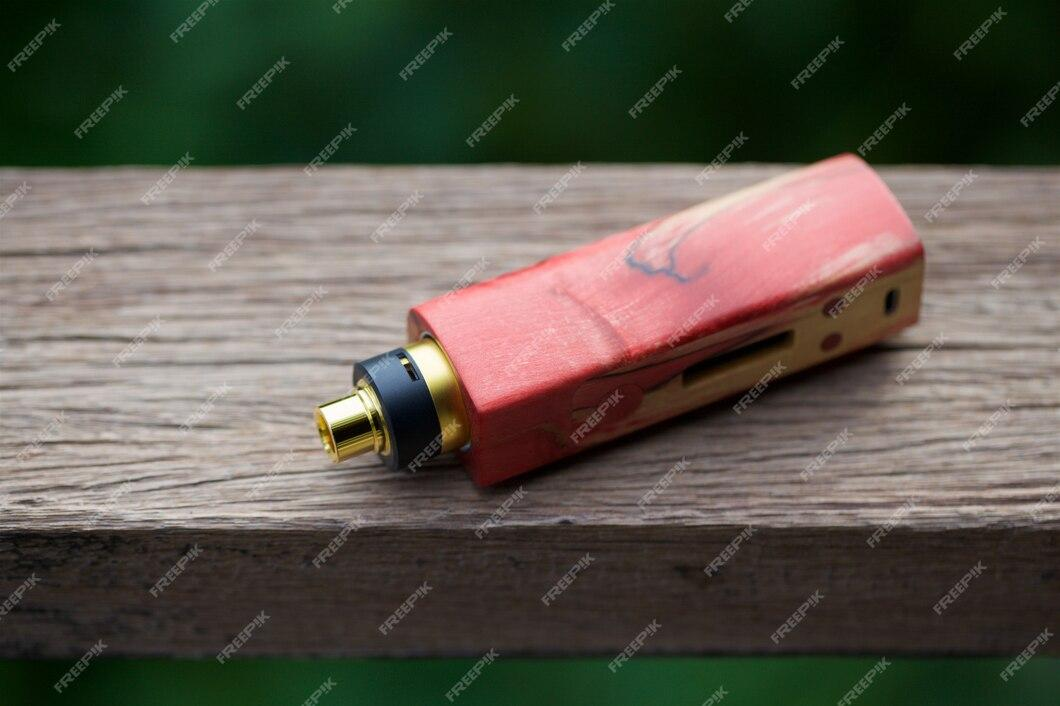Vape: (315, 154, 924, 486)
